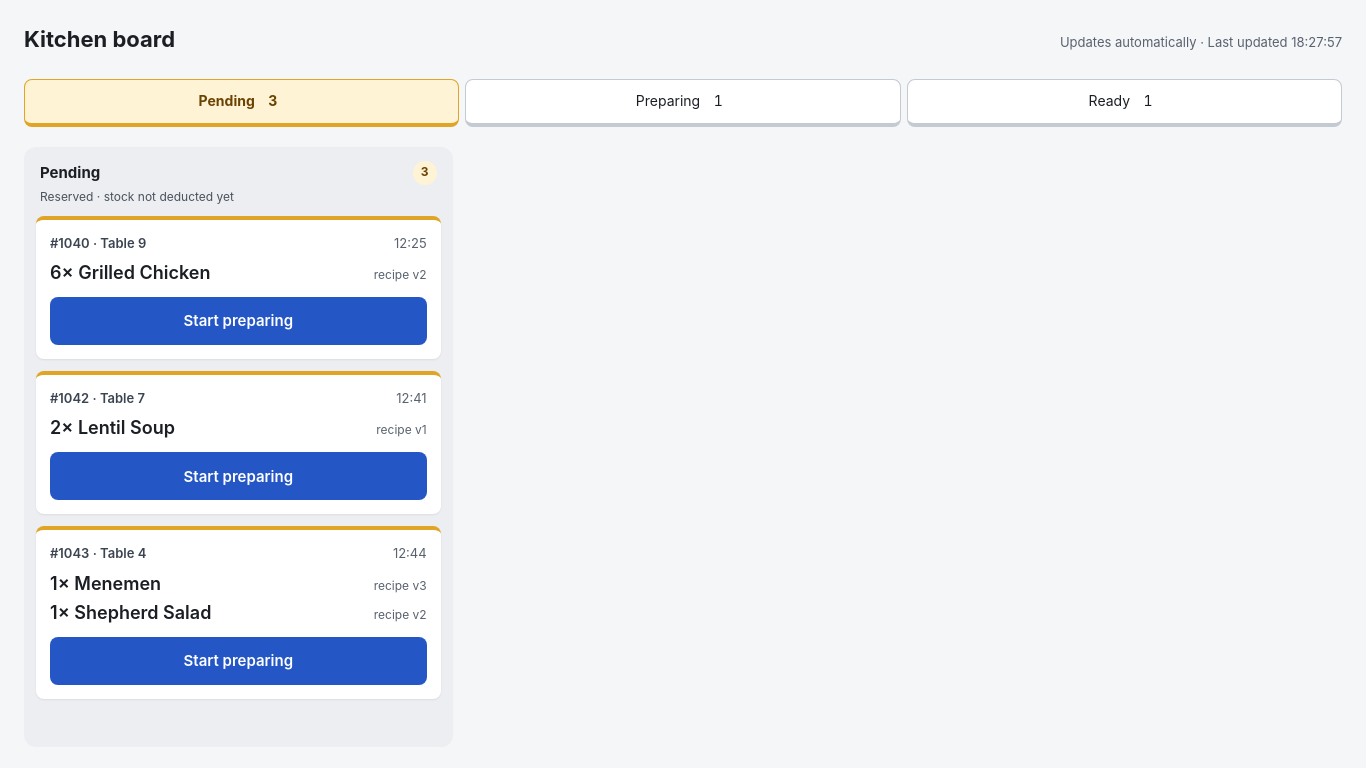
Test: KitchenBoardPage on narrow screens › keeps cards and a running status change when the screen width changes
Expected: the element showing "Pending 3 Preparing 1 Ready 1" is shown, [0,71,1365,135]
Click the button with aria-label "Start preparing order #1042" at x=238, y=476, box [50,452,427,500]
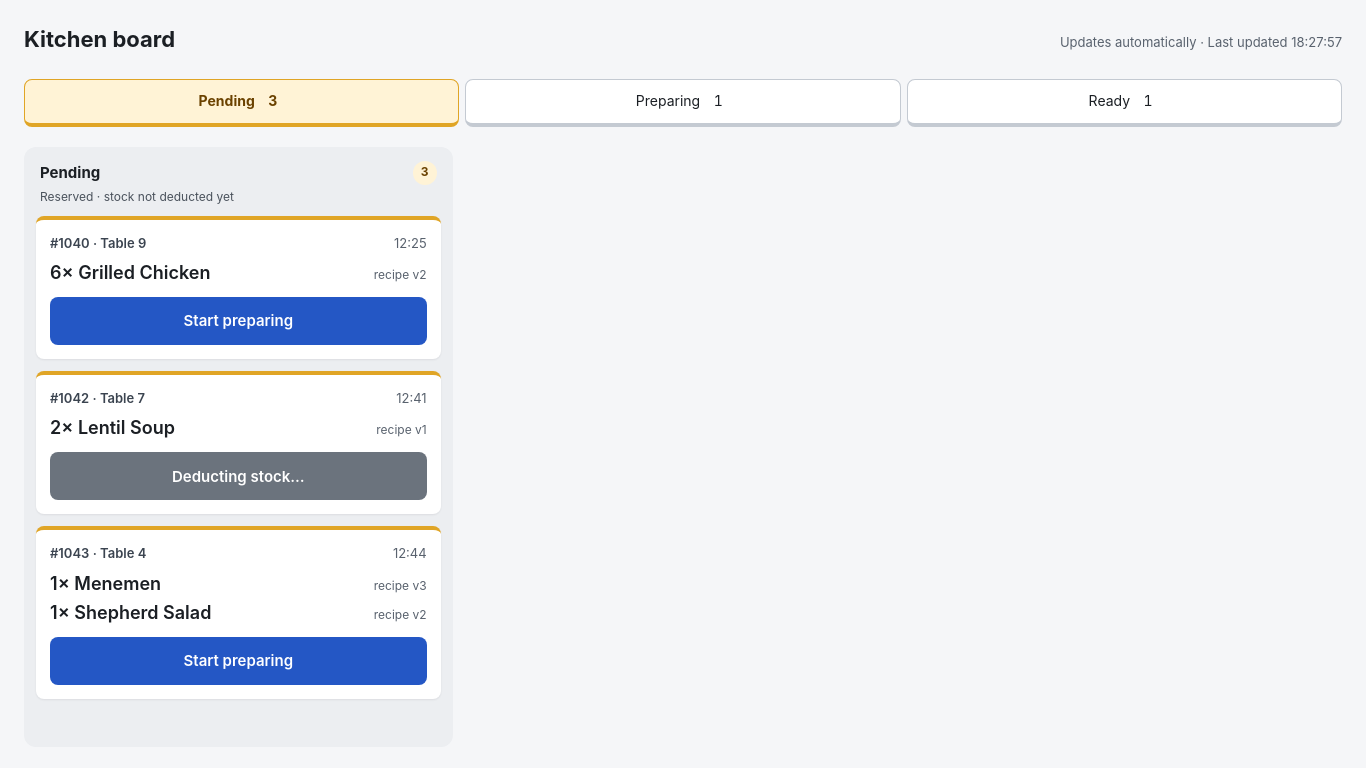
Expected: the button with aria-label "Deducting stock… order #1042" is disabled, [50,452,427,500]
